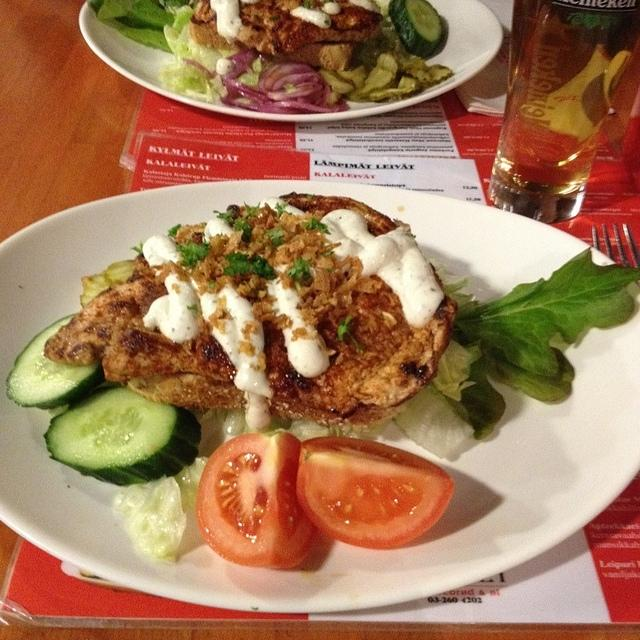cucumber: (43, 381, 202, 487), (5, 314, 106, 411), (388, 1, 443, 59)
lettuce: (113, 473, 188, 567), (200, 408, 390, 442), (392, 382, 474, 458), (164, 5, 239, 73), (86, 1, 174, 52), (158, 48, 228, 104), (432, 339, 484, 403)
onion: (220, 62, 350, 114), (228, 90, 268, 107)
tomato: (296, 435, 456, 548), (196, 428, 320, 568)
